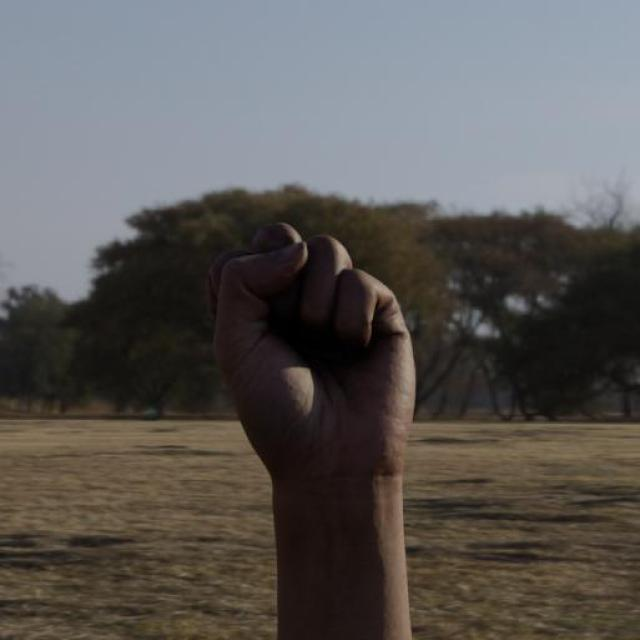S: (203, 217, 422, 479)
